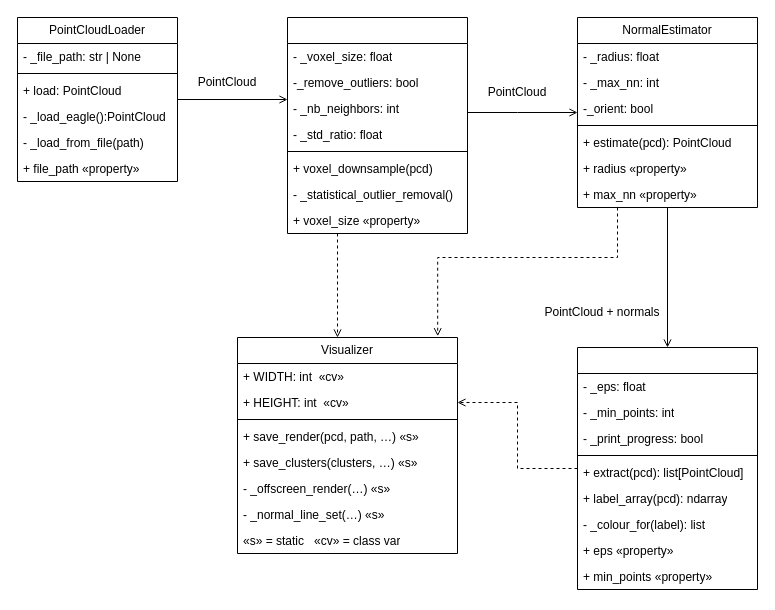
The diagram is 775 pixels wide and 610 high, and some of its shapes have lost their labels. Each missing label, with the box of its shape:
ClusterExtractor: (576, 346, 758, 590)
Preprocessor: (286, 16, 468, 234)
